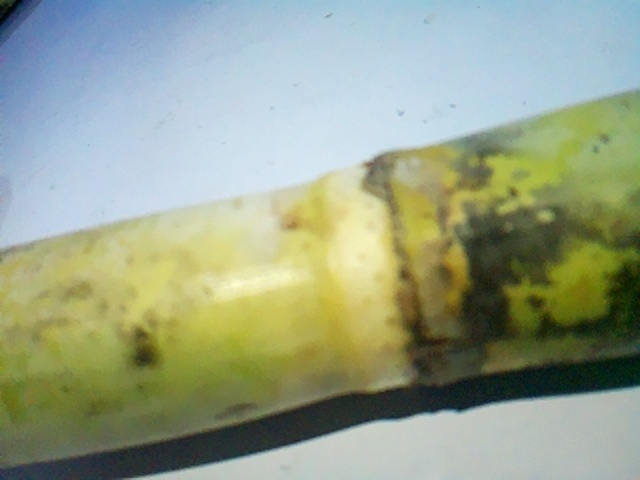Good Sugarcane: (1, 91, 635, 471)
Node: (308, 143, 445, 399)
